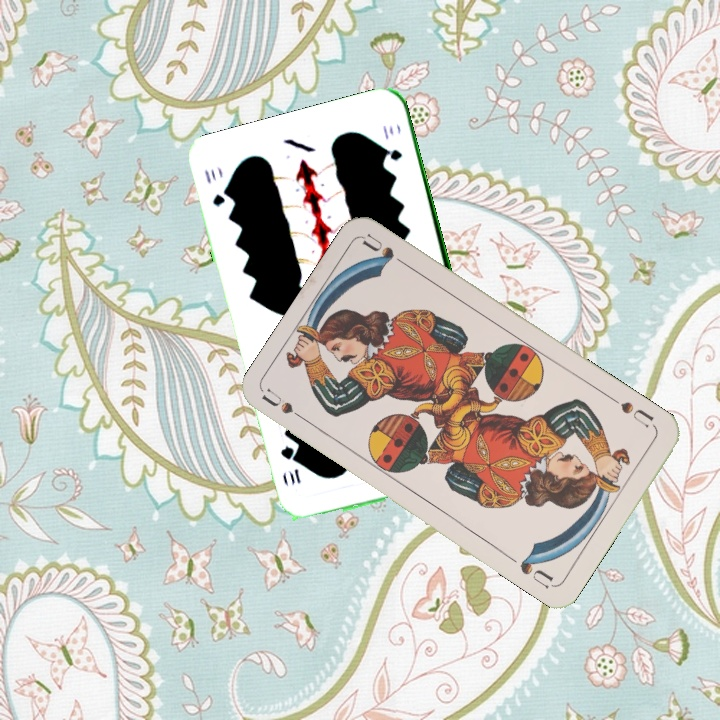G10: (200, 166, 231, 210)
SU: (259, 385, 314, 427), (606, 392, 656, 431)
